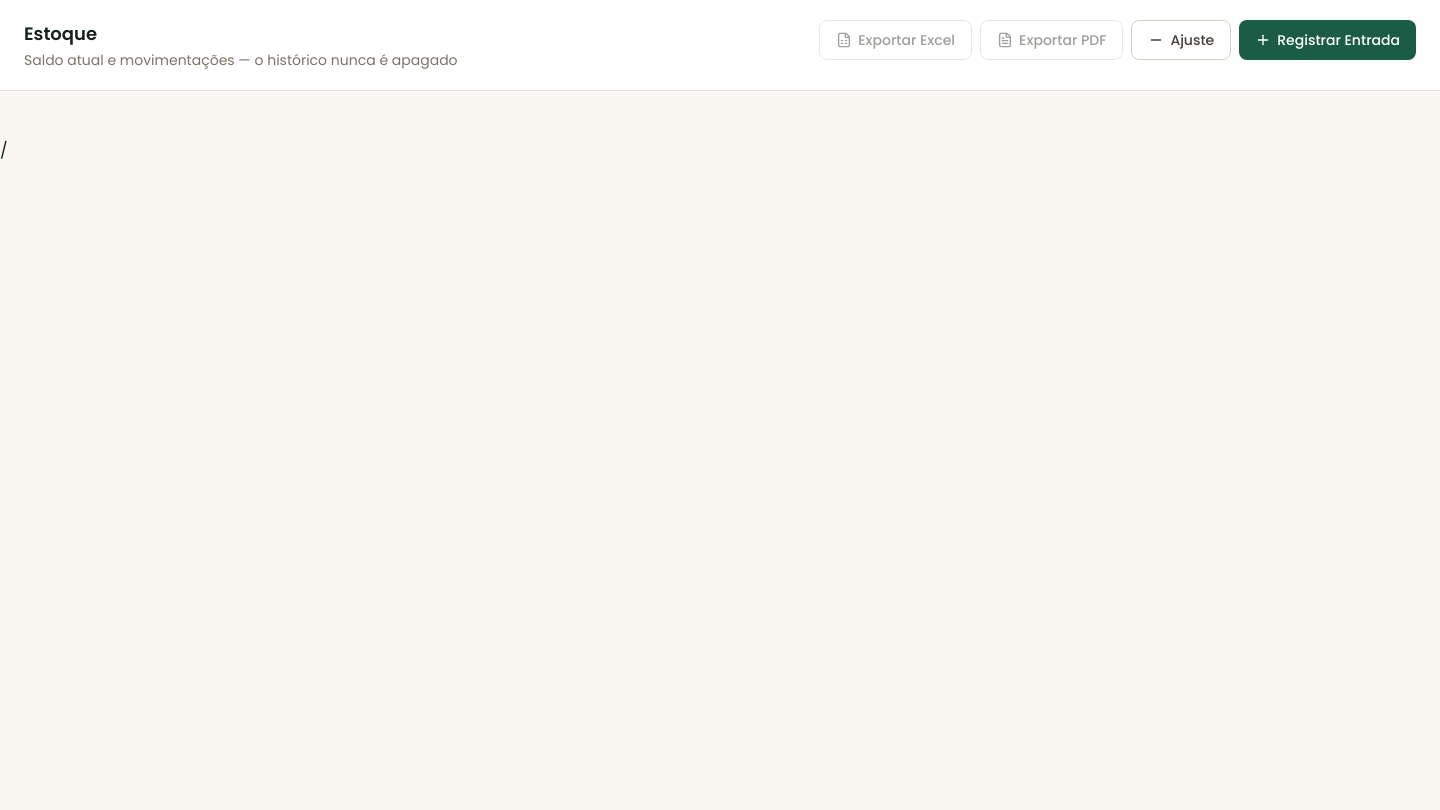
Test: Estoque › entrada com erro sem mensagem e cancelar
Click the button "Registrar Entrada" at x=1328, y=40, box [1239,20,1416,60]
(page scrolled)
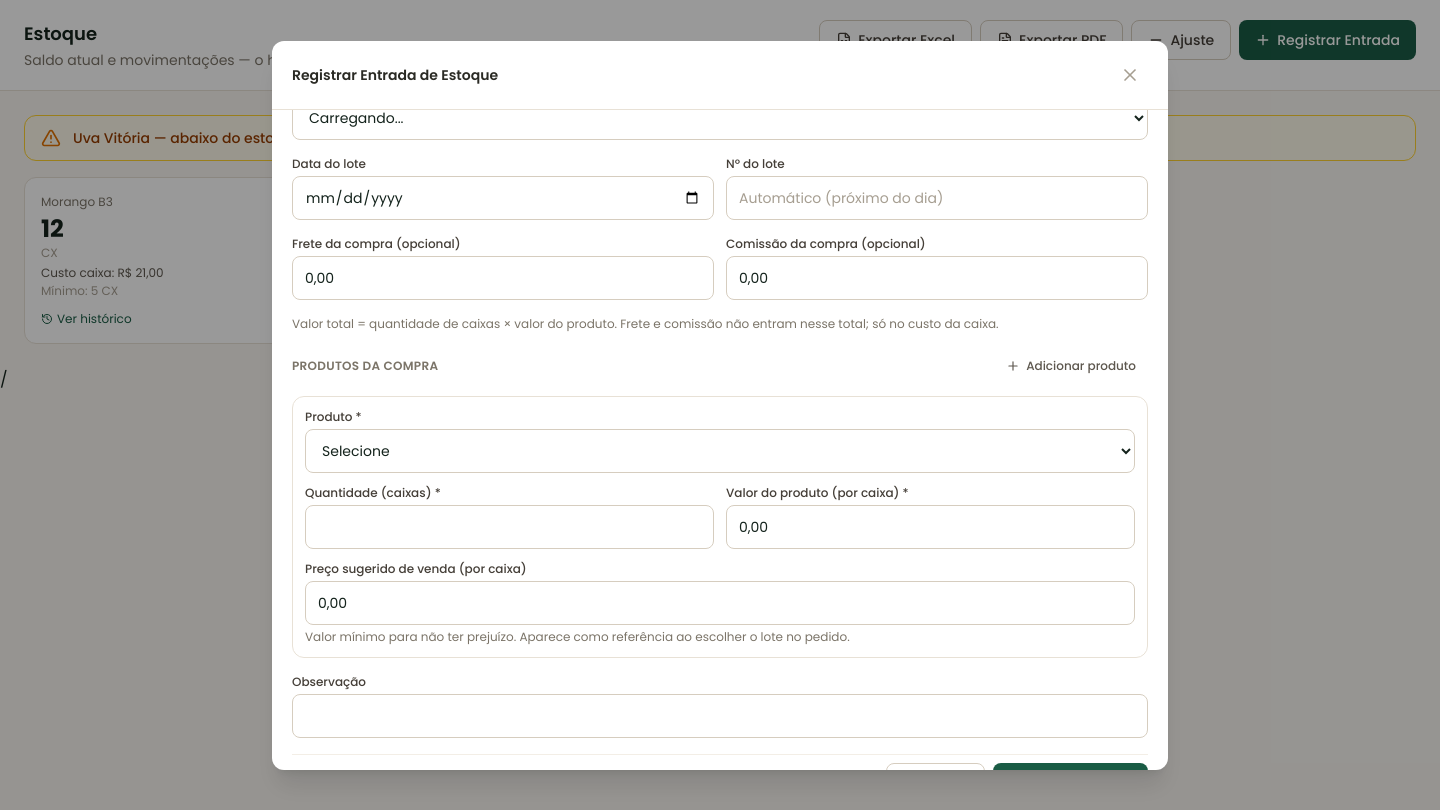
Submit the form, box [292,76,1148,802]
(page scrolled)
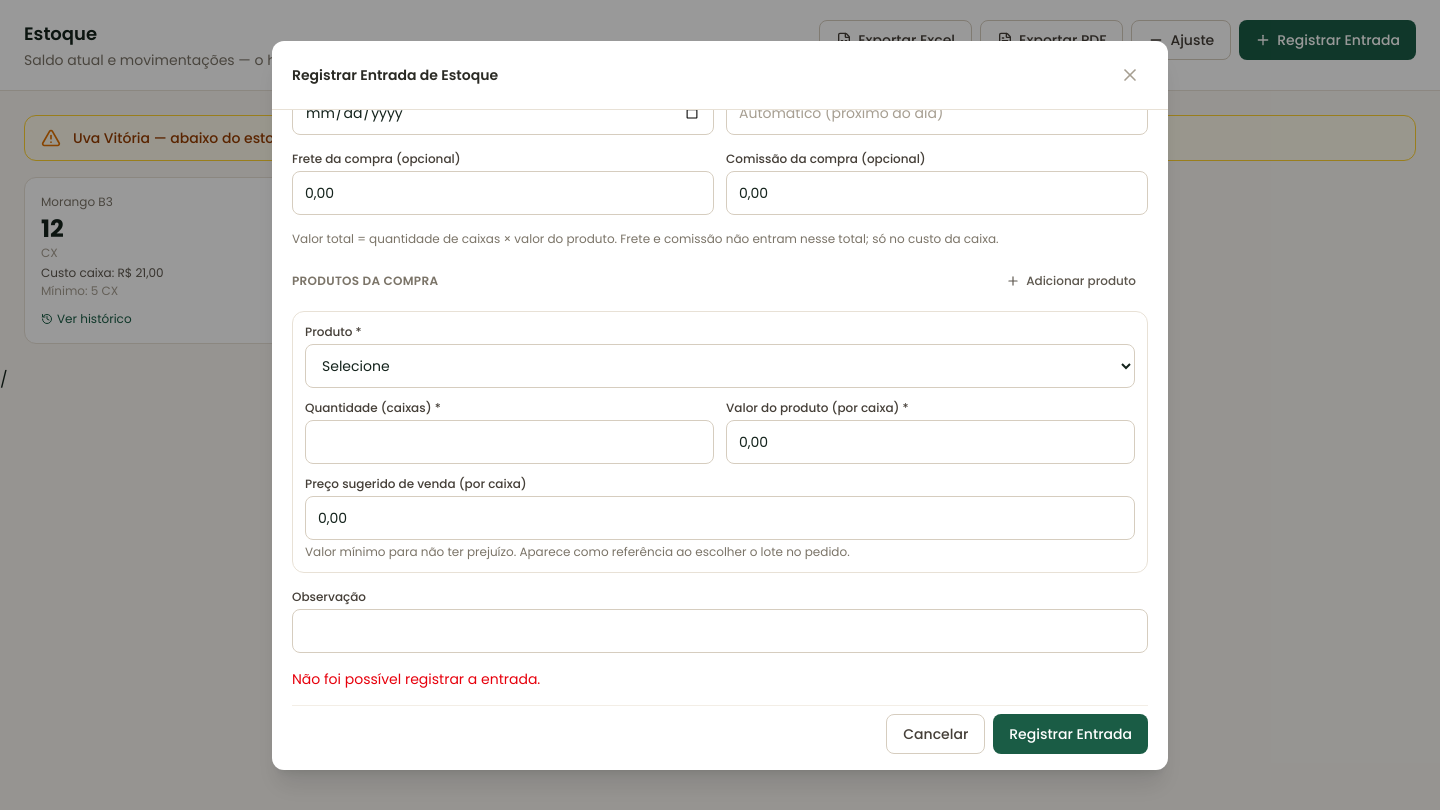
Click the button "Cancelar" at x=936, y=734, box [886,714,985,754]
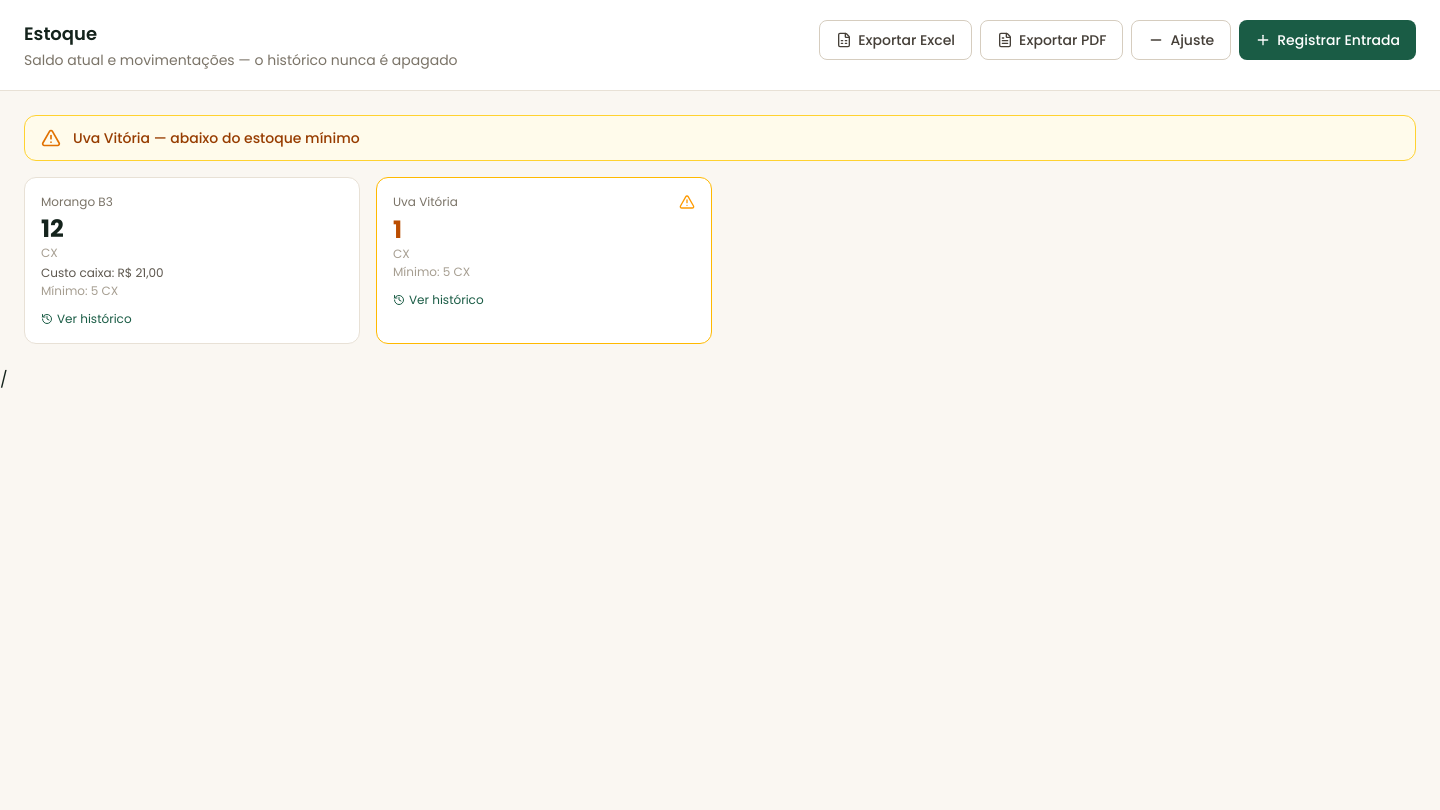
Expected: the heading "Registrar Entrada de Estoque" is gone
